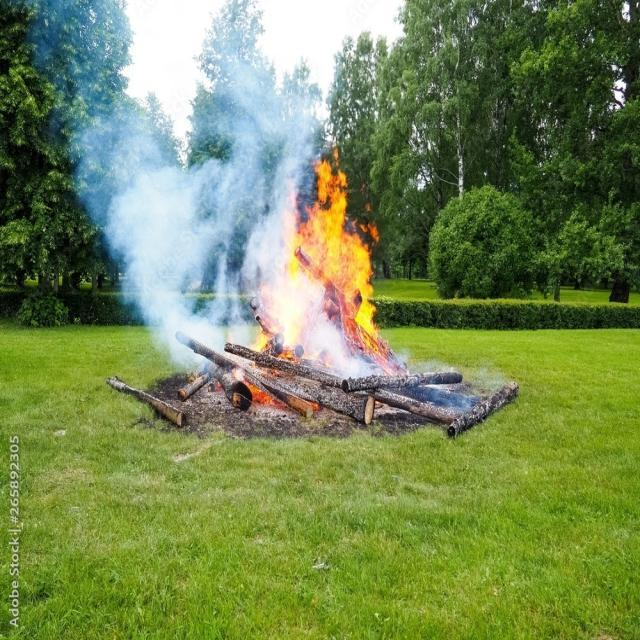Fire: (293, 156, 385, 352)
Smoke: (66, 2, 314, 397)
